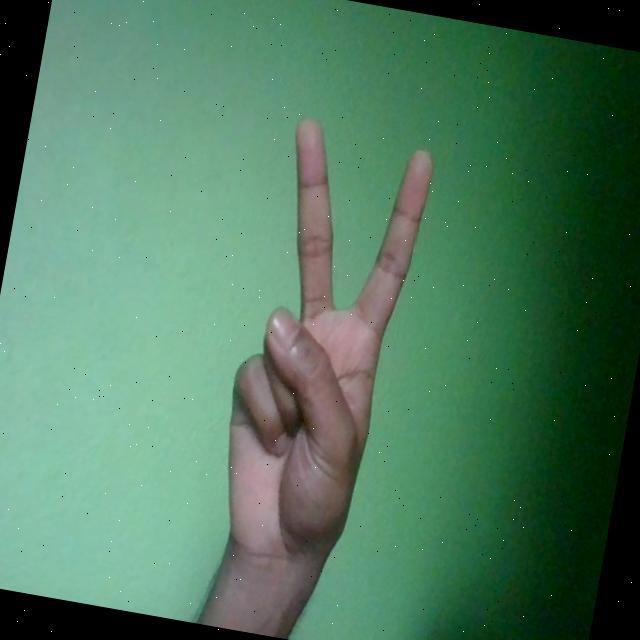Fist: (199, 108, 439, 594)
